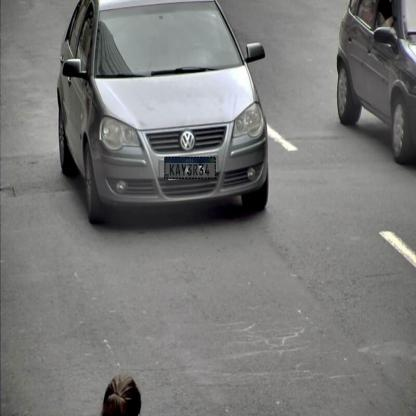PlacaM: (164, 157, 216, 179)
